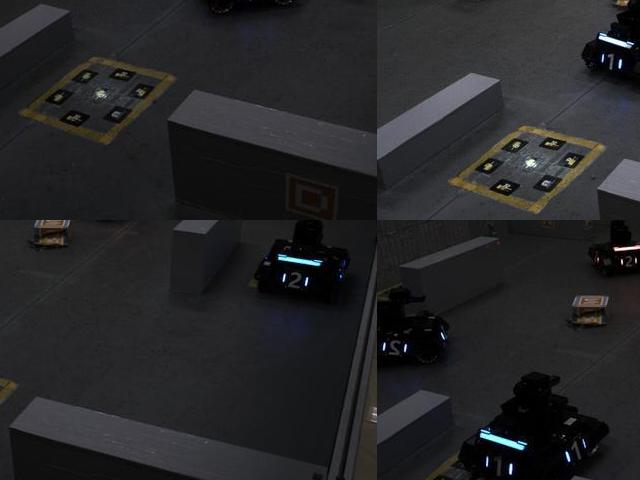armor: (480, 451, 518, 479), (558, 436, 592, 467), (378, 335, 414, 360), (597, 48, 628, 75), (280, 268, 312, 293), (618, 252, 639, 270)
